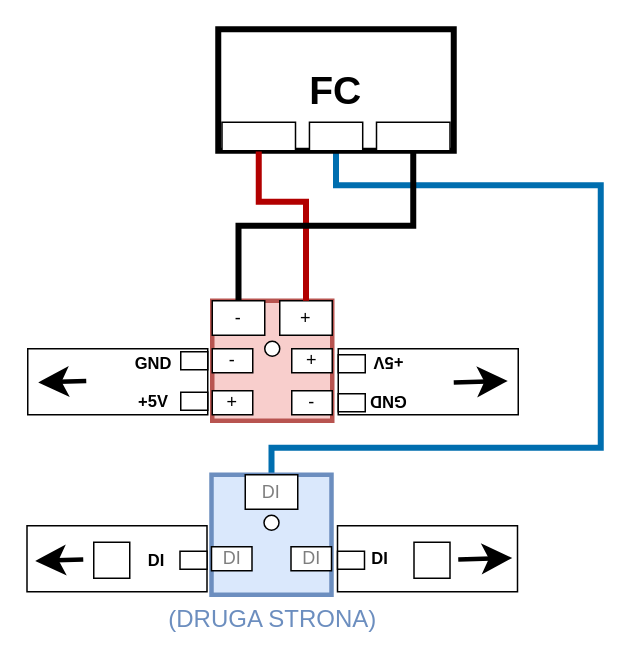
Image size: 630x666. Some labels were removed from this diagram. The centre of each missing label's shape, as x and y in pixels:
BATT+: point (258, 136)
BATT-: point (412, 136)
LED: point (335, 136)
